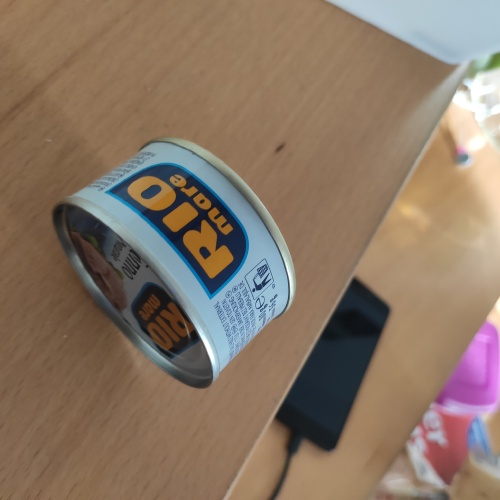tonno: (42, 130, 307, 396)
